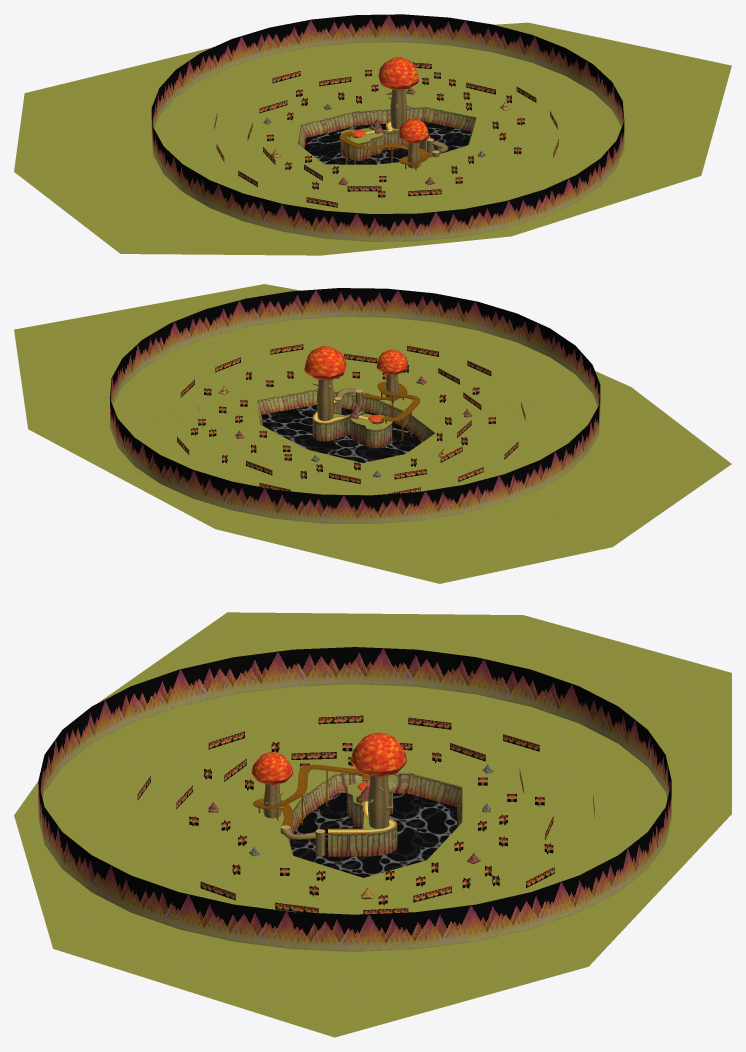
3 renders of one model, top to bottom at view 1: azimuth 30°, elevation 25°; view 2: azimuth 150°, elevation 25°; view 3: azimuth 270°, elevation 25°, orthographic. The views are drawn at different scales.
Parts seen in each view (by area): view 1: grass.041, wall_bg.001, water.024, leaves.001, branch.002, bridge_shadow.001, house.004; view 2: grass.041, wall_bg.001, water.024, leaves.001, branch.002, bridge_shadow.001; view 3: grass.041, wall_bg.001, water.024, leaves.001, branch.002, bridge_shadow.001.
Part boxes in pixels (x1,y1,x2,y2): grass.041: (14,22,731,255); wall_bg.001: (151,14,624,241); water.024: (304,121,471,164); leaves.001: (352,57,428,143); branch.002: (386,89,448,168); bridge_shadow.001: (339,131,432,163); house.004: (263,87,510,185); grass.041: (14,284,731,583); wall_bg.001: (110,288,600,524); water.024: (261,405,423,462); leaves.001: (304,346,407,422); branch.002: (312,374,400,420); bridge_shadow.001: (361,381,419,420); grass.041: (14,612,731,1037); wall_bg.001: (38,647,671,951); water.024: (290,792,456,877); leaves.001: (251,732,406,790); branch.002: (262,775,394,856); bridge_shadow.001: (253,764,369,826).
Bounding box in the file's own units: 420100 × 58002 × 299780.
14 materials, 14 textured.
